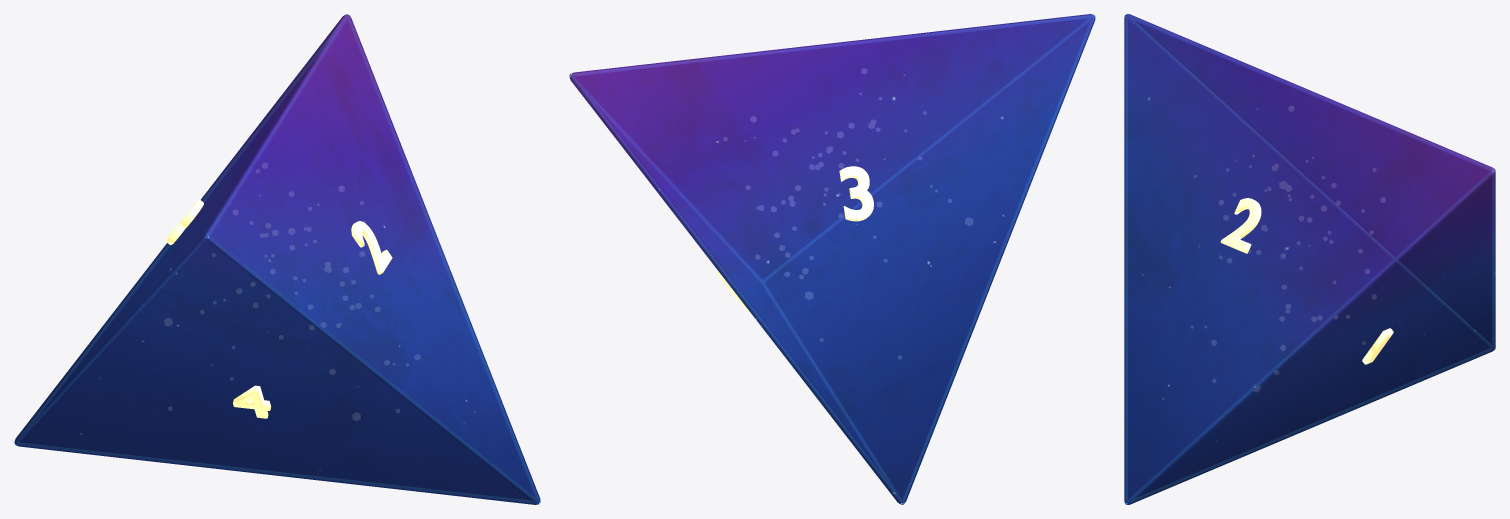
Rendered from D4_四面骰_星穹_baked.glb.
3 renders of one model, left to right at view 1: azimuth 30°, elevation 25°; view 2: azimuth 150°, elevation 25°; view 3: azimuth 270°, elevation 25°, orthographic. The views are drawn at different scales.
Visible parts, largest first — view 1: D4_Body_4_Faces, D4_Galaxy_Clean_Edge_Divider_v6, D4_Clustered_StarDust_v5, D4_Face_02_2, D4_Face_04_4; view 2: D4_Body_4_Faces, D4_Galaxy_Clean_Edge_Divider_v6, D4_Face_03_3, D4_Clustered_StarDust_v5; view 3: D4_Body_4_Faces, D4_Galaxy_Clean_Edge_Divider_v6, D4_Face_02_2, D4_Clustered_StarDust_v5, D4_Face_01_1.
Boxes of the visible parts, box(x1,y1,x2,y2) form: D4_Body_4_Faces: box(14, 14, 540, 504); D4_Galaxy_Clean_Edge_Divider_v6: box(14, 14, 540, 503); D4_Clustered_StarDust_v5: box(165, 163, 419, 420); D4_Face_02_2: box(351, 221, 392, 274); D4_Face_04_4: box(233, 385, 271, 418); D4_Body_4_Faces: box(569, 14, 1095, 504); D4_Galaxy_Clean_Edge_Divider_v6: box(569, 14, 1095, 504); D4_Face_03_3: box(839, 166, 873, 221); D4_Clustered_StarDust_v5: box(724, 68, 972, 358); D4_Body_4_Faces: box(1124, 14, 1495, 504); D4_Galaxy_Clean_Edge_Divider_v6: box(1124, 14, 1494, 504); D4_Face_02_2: box(1220, 198, 1261, 253); D4_Clustered_StarDust_v5: box(1191, 106, 1385, 391); D4_Face_01_1: box(1362, 328, 1393, 364).
Bounding box in the file's own units: 2.27 × 2.27 × 2.27.
Materials: 4 (1 with a texture image).
